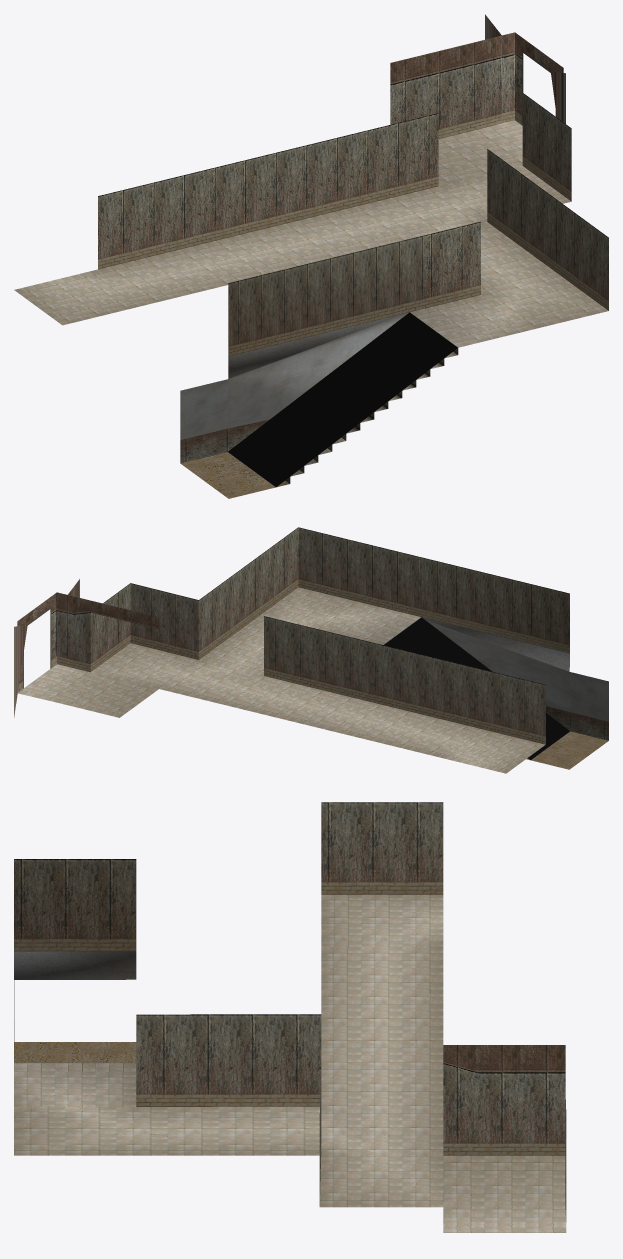
Rendered from M10_NEW_INTERIOR7.glb.
3 renders of one model, top to bottom at view 1: azimuth 30°, elevation 25°; view 2: azimuth 150°, elevation 25°; view 3: azimuth 270°, elevation 25°, orthographic. The views are drawn at different scales.
Parts seen in each view (by area): view 1: M10_NEW_INTERIOR7; view 2: M10_NEW_INTERIOR7; view 3: M10_NEW_INTERIOR7.
Boxes of the visible parts, x1,y1,x2,y2 form: M10_NEW_INTERIOR7: [14, 14, 608, 498]; M10_NEW_INTERIOR7: [14, 527, 608, 773]; M10_NEW_INTERIOR7: [14, 802, 566, 1232].
Bounding box in the file's own units: 19.63 × 6.56 × 14.6.
9 materials, 8 textured.
